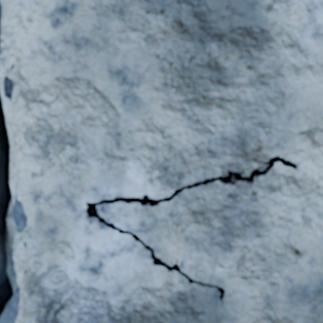brick: (1, 0, 322, 322)
crack: (0, 2, 19, 320)
